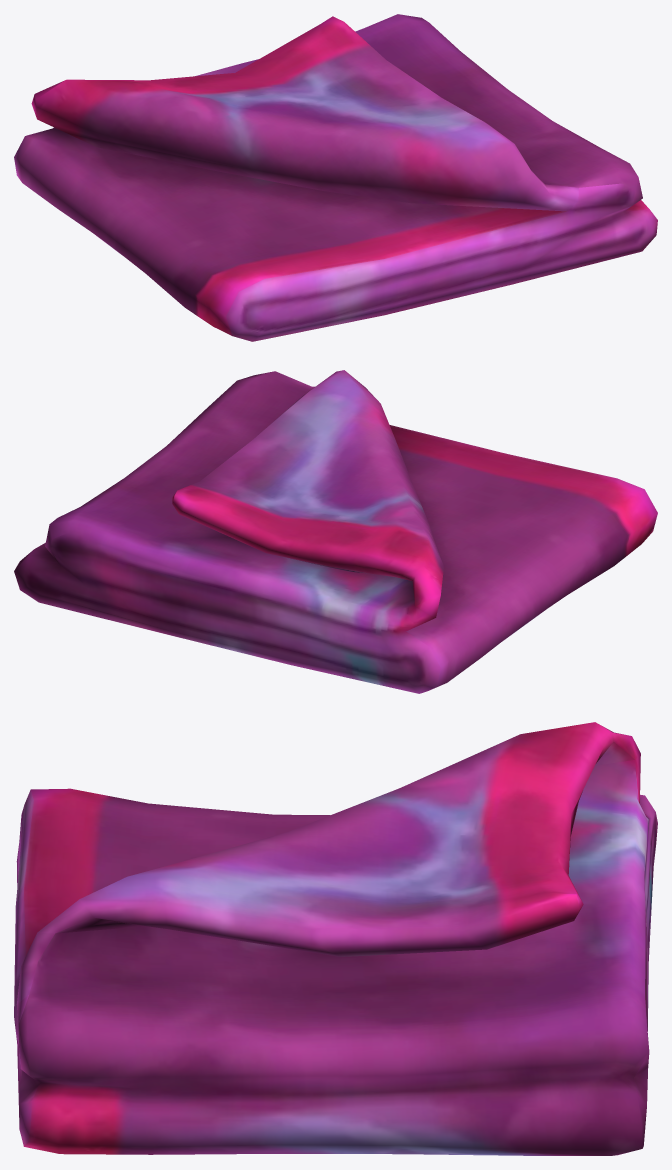
3 renders of one model, top to bottom at view 1: azimuth 30°, elevation 25°; view 2: azimuth 150°, elevation 25°; view 3: azimuth 270°, elevation 25°, orthographic. The views are drawn at different scales.
Parts seen in each view (by area): view 1: SM_Infinity_Cloth_01_LOD0; view 2: SM_Infinity_Cloth_01_LOD0; view 3: SM_Infinity_Cloth_01_LOD0.
Boxes of the visible parts, x1=… form: SM_Infinity_Cloth_01_LOD0: x1=14, y1=14, x2=657, y2=341; SM_Infinity_Cloth_01_LOD0: x1=14, y1=370, x2=657, y2=693; SM_Infinity_Cloth_01_LOD0: x1=14, y1=722, x2=657, y2=1155.
Size of the model in its own units: 0.5574 by 0.1525 by 0.4905.
Materials: 1 (1 with a texture image).
